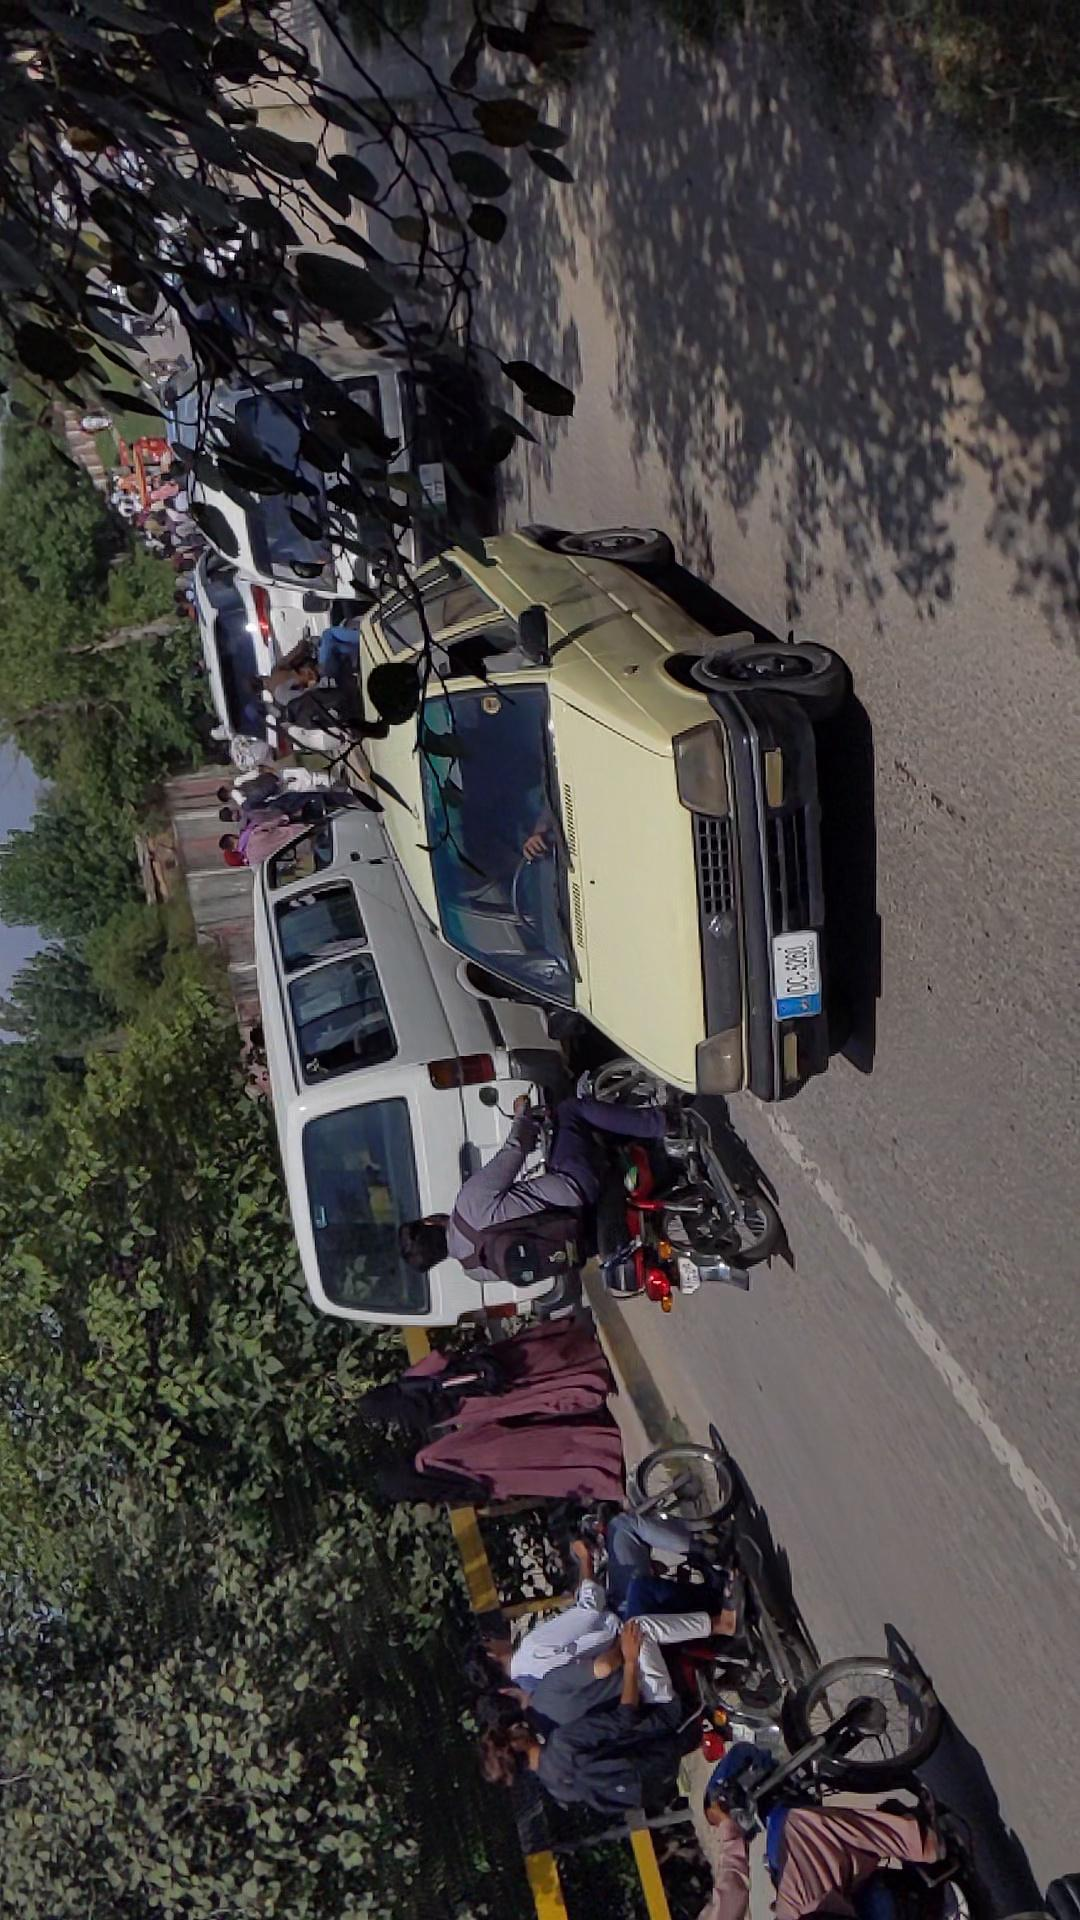windshield: (512, 765, 694, 1036)
